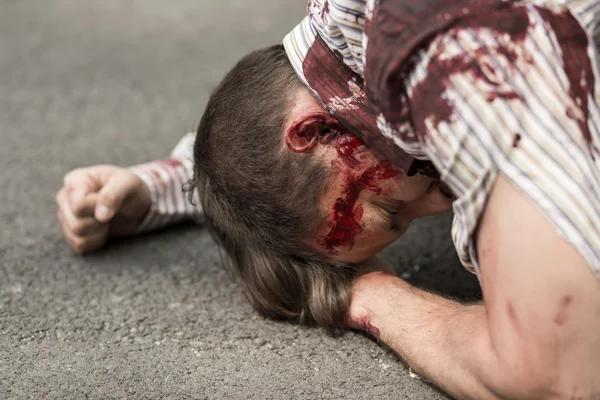Fire: (302, 1, 597, 174), (295, 104, 401, 253)
